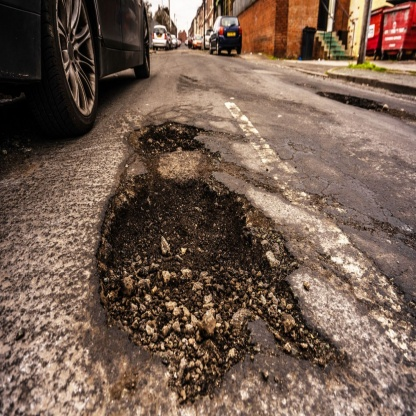pothole: (81, 122, 355, 412)
